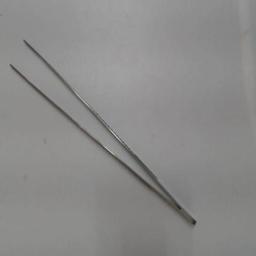DeBakey Dissector: (4, 28, 200, 232)
